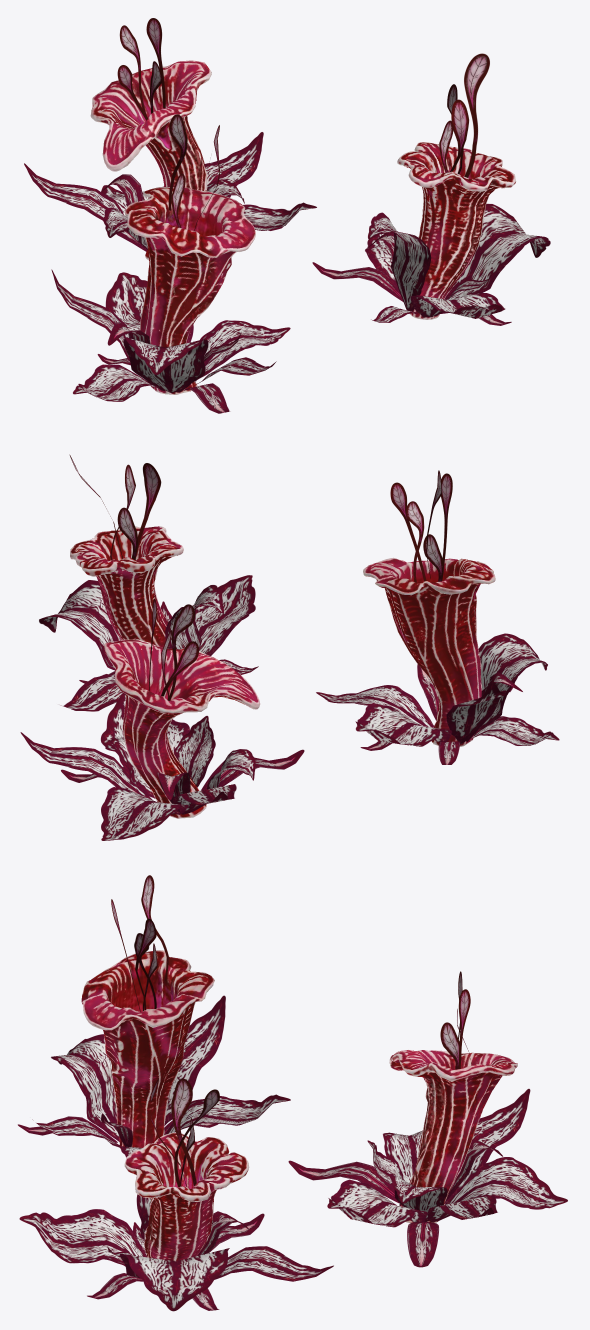
The model's file is flowers.glb.
3 renders of one model, top to bottom at view 1: azimuth 30°, elevation 25°; view 2: azimuth 150°, elevation 25°; view 3: azimuth 270°, elevation 25°, orthographic. The views are drawn at different scales.
Parts seen in each view (by area): view 1: Plane.008_base_0, Retopo_cup_plant_high_1.001_openPBR_shader1_0; view 2: Plane.008_base_0, Retopo_cup_plant_high_1.001_openPBR_shader1_0; view 3: Plane.008_base_0, Retopo_cup_plant_high_1.001_openPBR_shader1_0.
Boxes of the visible parts, box(x1,y1,x2,y2) form: Plane.008_base_0: box(24, 18, 550, 413); Retopo_cup_plant_high_1.001_openPBR_shader1_0: box(90, 60, 516, 394); Plane.008_base_0: box(20, 454, 559, 840); Retopo_cup_plant_high_1.001_openPBR_shader1_0: box(70, 526, 495, 818); Plane.008_base_0: box(18, 875, 567, 1311); Retopo_cup_plant_high_1.001_openPBR_shader1_0: box(81, 950, 517, 1261).
Size of the model in its own units: 3.47 by 1.8 by 3.25.
Materials: 2 (2 with a texture image).
